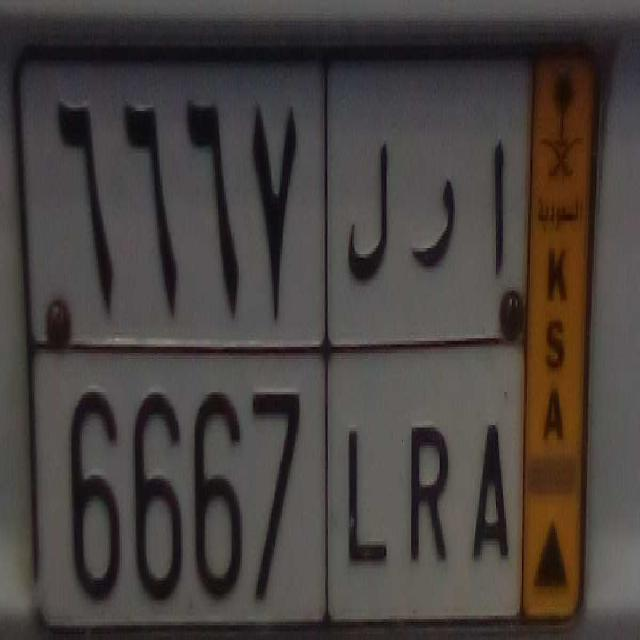license_plate: (24, 325, 523, 640)
